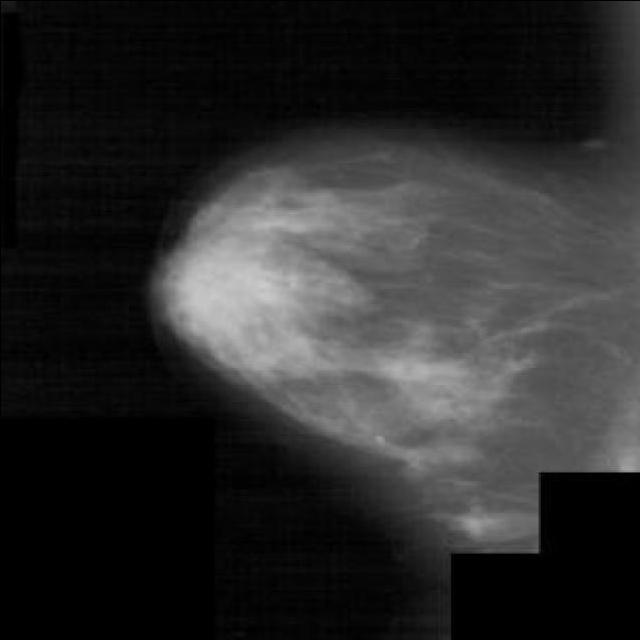tumor: (181, 193, 322, 372)
